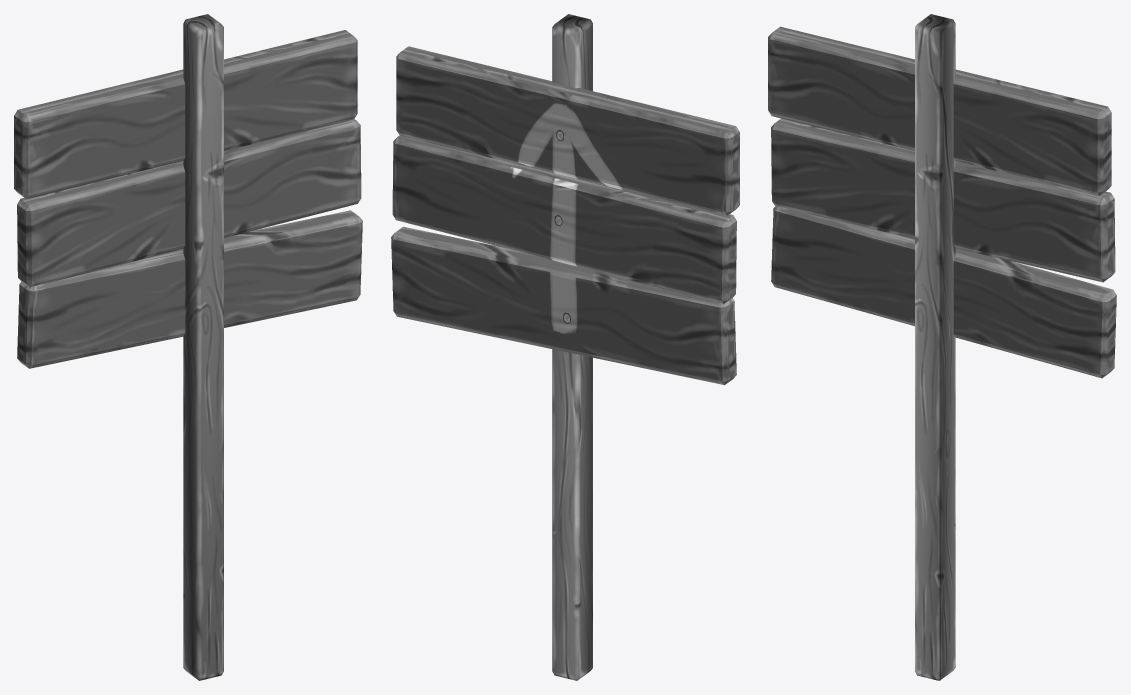
File: SM_Panneau_Haut.FBX
3 renders of one model, left to right at view 1: azimuth 30°, elevation 25°; view 2: azimuth 150°, elevation 25°; view 3: azimuth 330°, elevation 25°, orthographic.
Visible parts, largest first — view 1: WoodPlank_LP013; view 2: WoodPlank_LP013; view 3: WoodPlank_LP013.
Part boxes in pixels (x1=…): WoodPlank_LP013: x1=14, y1=14, x2=362, y2=680; WoodPlank_LP013: x1=391, y1=14, x2=739, y2=680; WoodPlank_LP013: x1=768, y1=14, x2=1116, y2=680.
Size of the model in its own units: 61.84 by 113 by 8.1.
